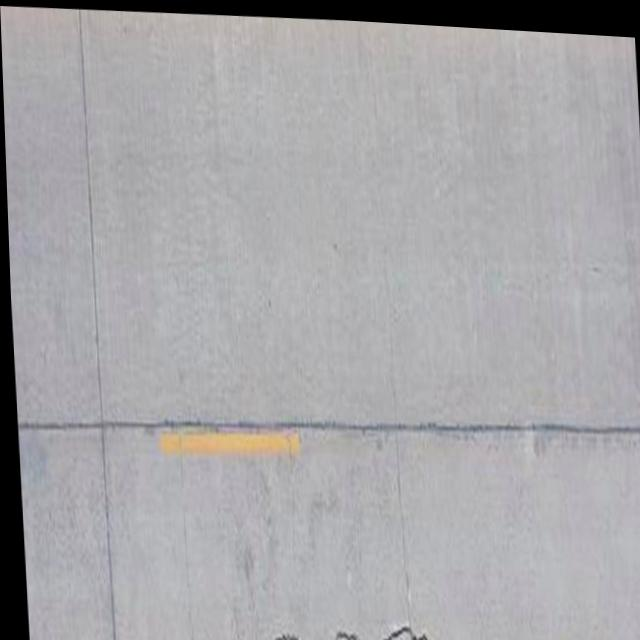Crack: (207, 591, 478, 640)
